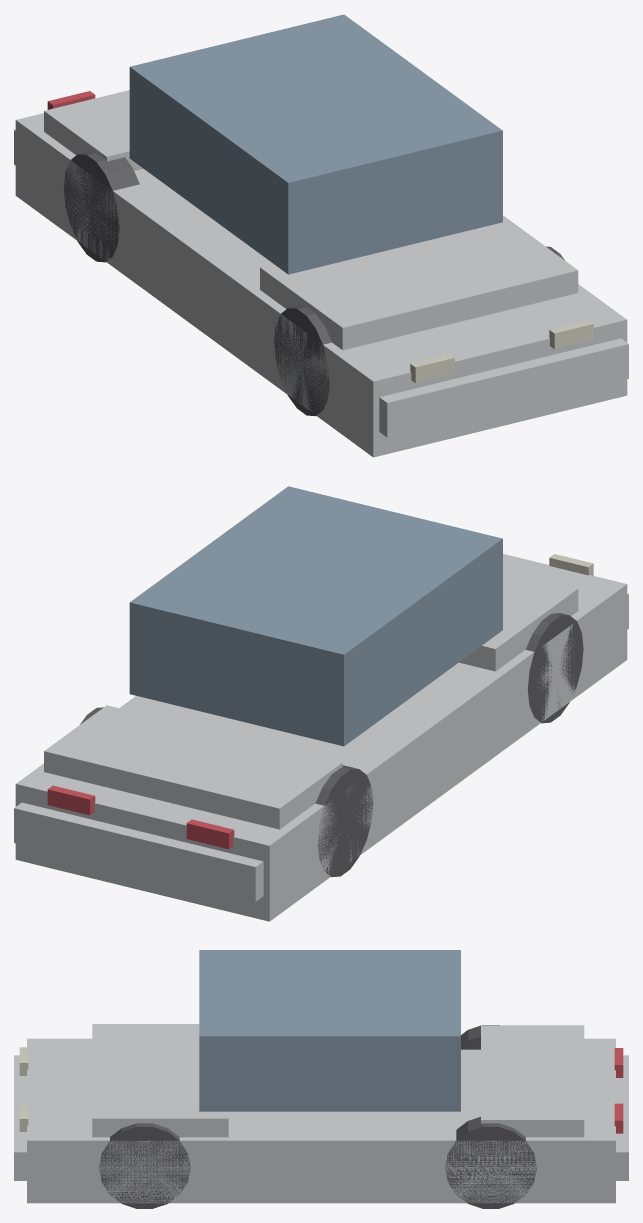
The model's file is starter_sedan.glb.
3 views of the same model, one above another, from view 1: azimuth 30°, elevation 25°; view 2: azimuth 150°, elevation 25°; view 3: azimuth 270°, elevation 25° (orthographic). The views are drawn at different scales.
Parts seen in each view (by area): view 1: body, cabin, wheel_rl, wheel_fl, headlight_r, headlight_l; view 2: body, cabin, wheel_rl, wheel_fl, taillight_r, taillight_l, headlight_l; view 3: body, cabin, wheel_rr, wheel_fr, wheel_rl.
Boxes of the visible parts, x1,y1,x2,y2 form: body: [14, 90, 628, 457]; cabin: [129, 14, 502, 274]; wheel_rl: [63, 152, 139, 262]; wheel_fl: [274, 306, 331, 416]; headlight_r: [549, 320, 593, 349]; headlight_l: [410, 354, 454, 383]; body: [14, 554, 628, 921]; cabin: [129, 486, 502, 746]; wheel_rl: [315, 765, 373, 877]; wheel_fl: [525, 613, 583, 723]; taillight_r: [47, 785, 95, 815]; taillight_l: [186, 819, 234, 849]; headlight_l: [549, 554, 593, 575]; body: [14, 1024, 628, 1203]; cabin: [199, 950, 460, 1111]; wheel_rr: [445, 1116, 536, 1208]; wheel_fr: [99, 1123, 190, 1208]; wheel_rl: [461, 1025, 499, 1049].
Bounding box in the file's own units: 1.68 × 1.27 × 4.28.
